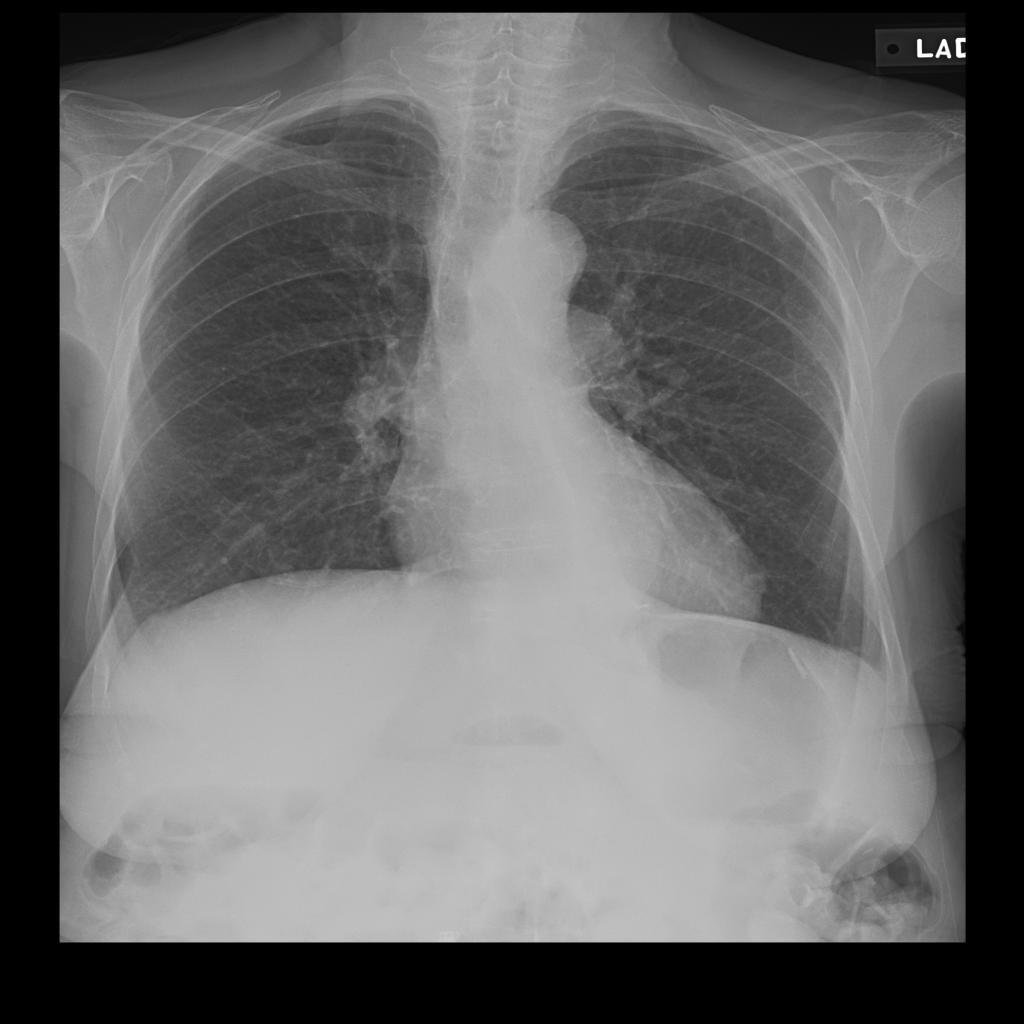Nodule: (179, 281, 232, 315), (82, 153, 110, 176)
